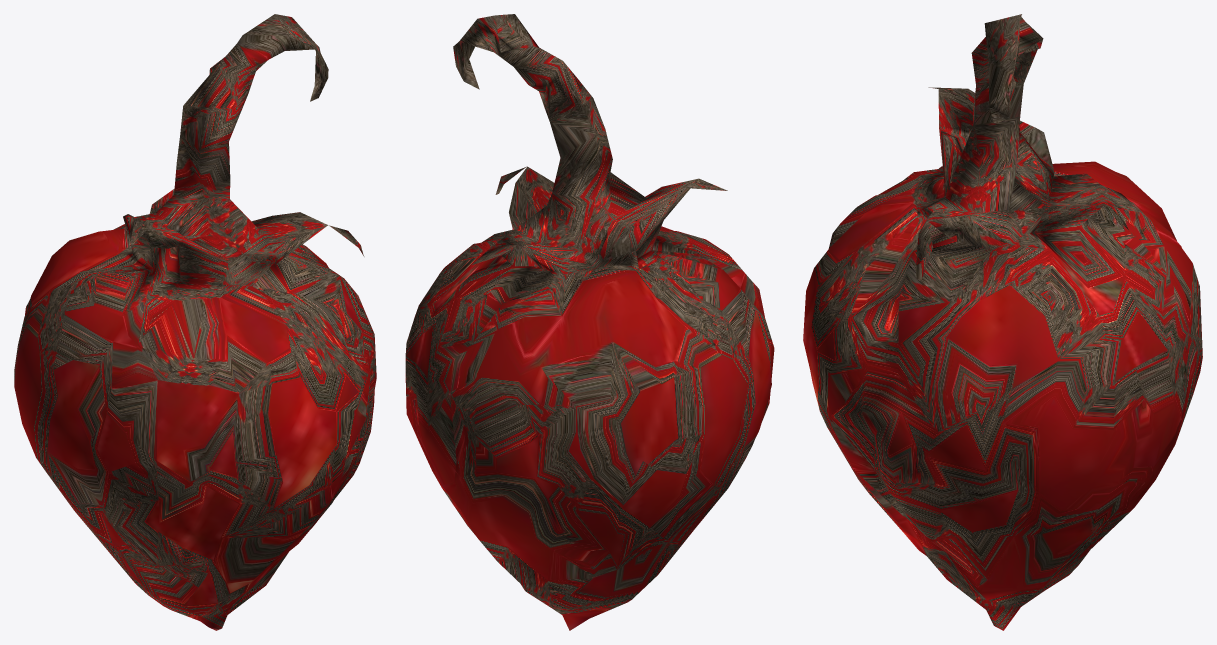
Rendered from fallen-fruit.glb.
3 renders of one model, left to right at view 1: azimuth 30°, elevation 25°; view 2: azimuth 150°, elevation 25°; view 3: azimuth 270°, elevation 25°, orthographic. The views are drawn at different scales.
Bounding box in the file's own units: 1.04 × 1.9 × 1.06.
1 material, 1 textured.
